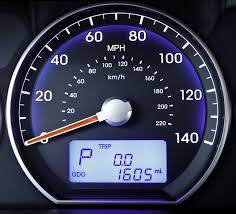Digital_Meter: (69, 140, 169, 186)
